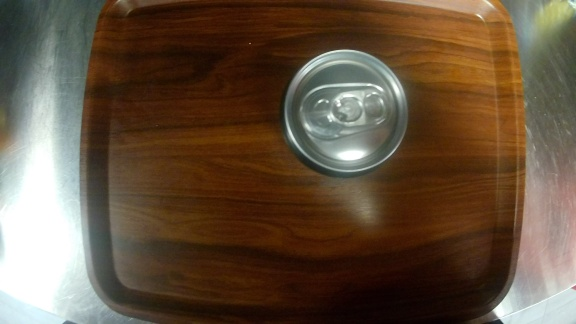kutukola: (276, 46, 413, 183)
